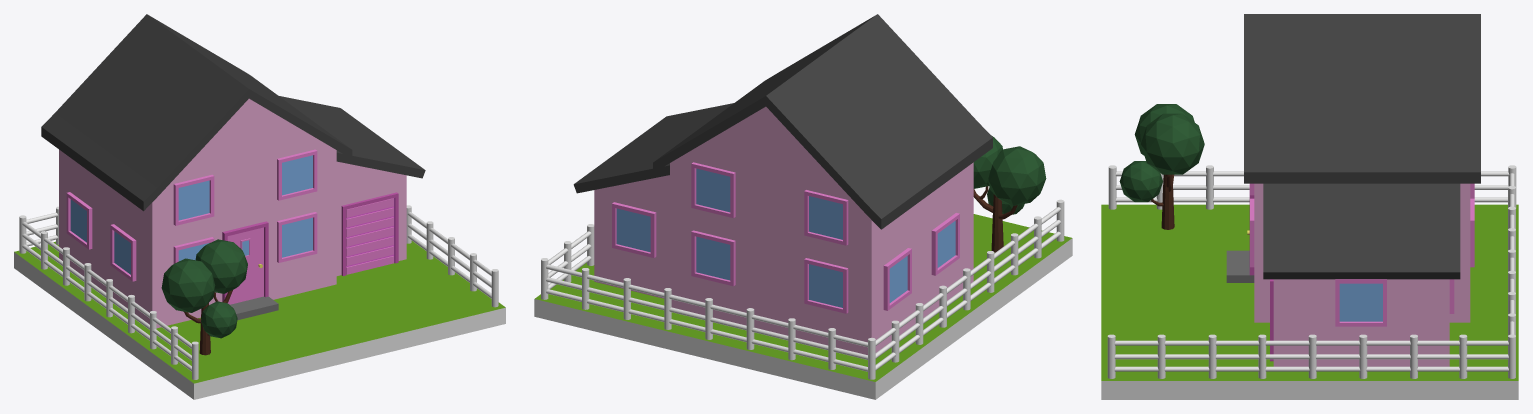
File: House Lvl 2.gltf
The picture shows the model from 3 angles, left to right: view 1: azimuth 30°, elevation 25°; view 2: azimuth 150°, elevation 25°; view 3: azimuth 270°, elevation 25°; orthographic projection. The views are drawn at different scales.
Visible parts, largest first — view 1: KUCA.001, Baza 1x1.001, prozor.001, ograda.001, DRVO 1.001, vrata garaza, ulazna vrata kuce.001; view 2: KUCA.001, Baza 1x1.001, ograda.001, prozor.001, DRVO 1.001; view 3: KUCA.001, Baza 1x1.001, ograda.001, DRVO 1.001, prozor.001, ulazna vrata kuce.001.
Boxes of the visible parts, x1=… form: KUCA.001: x1=41, y1=14, x2=425, y2=328; Baza 1x1.001: x1=14, y1=241, x2=505, y2=399; prozor.001: x1=66, y1=149, x2=317, y2=281; ograda.001: x1=19, y1=205, x2=498, y2=379; DRVO 1.001: x1=161, y1=239, x2=247, y2=355; vrata garaza: x1=341, y1=192, x2=398, y2=276; ulazna vrata kuce.001: x1=222, y1=221, x2=278, y2=320; KUCA.001: x1=573, y1=14, x2=992, y2=354; Baza 1x1.001: x1=534, y1=214, x2=1072, y2=399; ograda.001: x1=541, y1=199, x2=1064, y2=379; prozor.001: x1=612, y1=162, x2=959, y2=313; DRVO 1.001: x1=973, y1=135, x2=1046, y2=252; KUCA.001: x1=1244, y1=14, x2=1480, y2=366; Baza 1x1.001: x1=1101, y1=204, x2=1518, y2=399; ograda.001: x1=1107, y1=165, x2=1516, y2=378; DRVO 1.001: x1=1119, y1=104, x2=1204, y2=229; prozor.001: x1=1250, y1=183, x2=1474, y2=326; ulazna vrata kuce.001: x1=1226, y1=184, x2=1254, y2=282.
Size of the model in its own units: 2 by 1.46 by 2.
